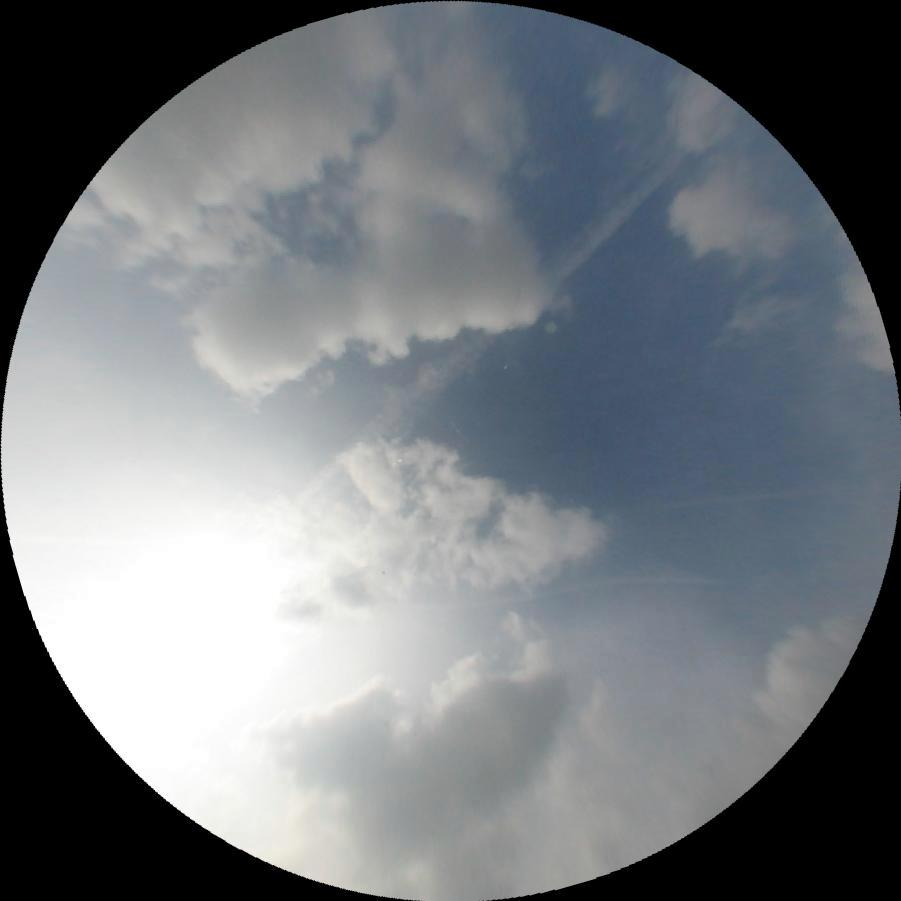contrail veryold: (287, 126, 689, 532), (602, 477, 834, 524)
unknow: (403, 563, 729, 617)
